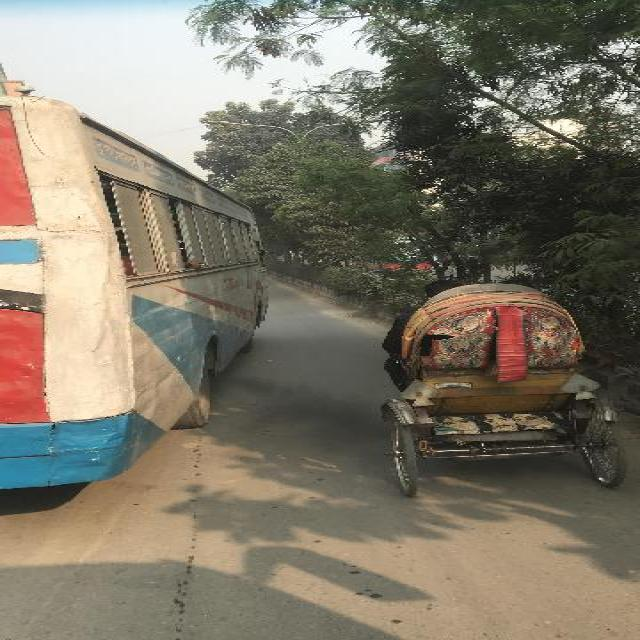13: (380, 280, 626, 502)
Truck: (0, 94, 270, 506)
